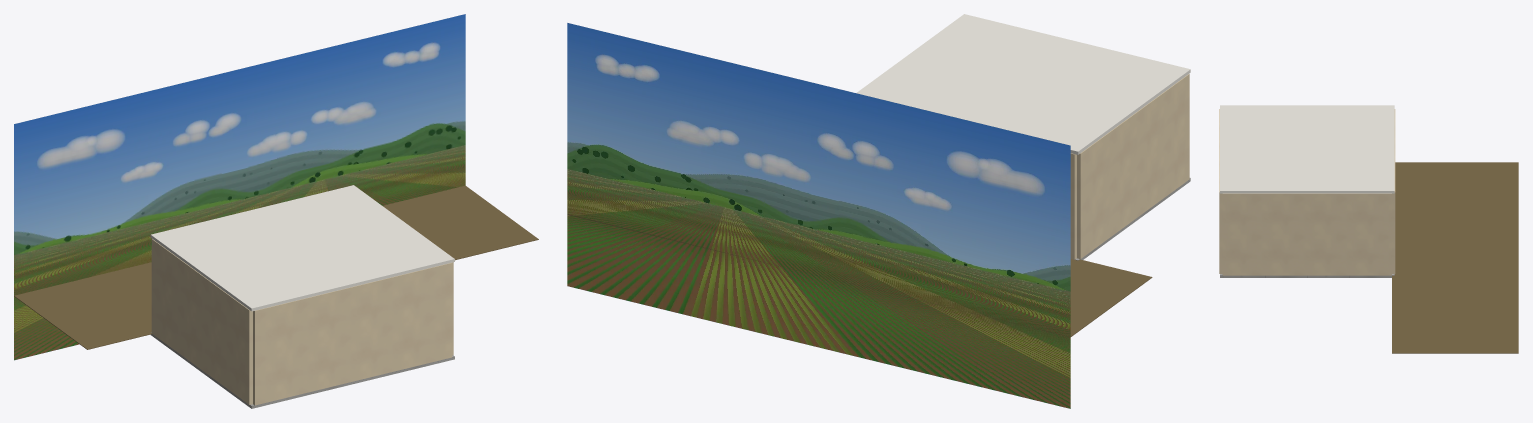
Rendered from workshop-c_JbZfUn.glb.
3 views of the same model, side by side, from view 1: azimuth 30°, elevation 25°; view 2: azimuth 150°, elevation 25°; view 3: azimuth 270°, elevation 25° (orthographic). The views are drawn at different scales.
Visible parts, largest first — view 1: SET_backdrop, SET_workshop_Static, SET_ceiling, SET_floor; view 2: SET_backdrop, SET_ceiling, SET_workshop_Static; view 3: SET_backdrop, SET_ceiling, SET_workshop_Static, SET_floor.
Boxes of the visible parts, <box> form: SET_backdrop: <box>14,14,538,360</box>; SET_workshop_Static: <box>151,239,453,405</box>; SET_ceiling: <box>150,185,454,311</box>; SET_floor: <box>150,332,454,408</box>; SET_backdrop: <box>567,23,1152,408</box>; SET_ceiling: <box>856,14,1190,154</box>; SET_workshop_Static: <box>1070,74,1189,259</box>; SET_backdrop: <box>1392,162,1518,353</box>; SET_ceiling: <box>1220,105,1394,193</box>; SET_workshop_Static: <box>1219,109,1395,275</box>; SET_floor: <box>1220,274,1394,277</box>.
Size of the model in its own units: 16 by 8 by 10.62.
Materials: 39 (17 with a texture image).
